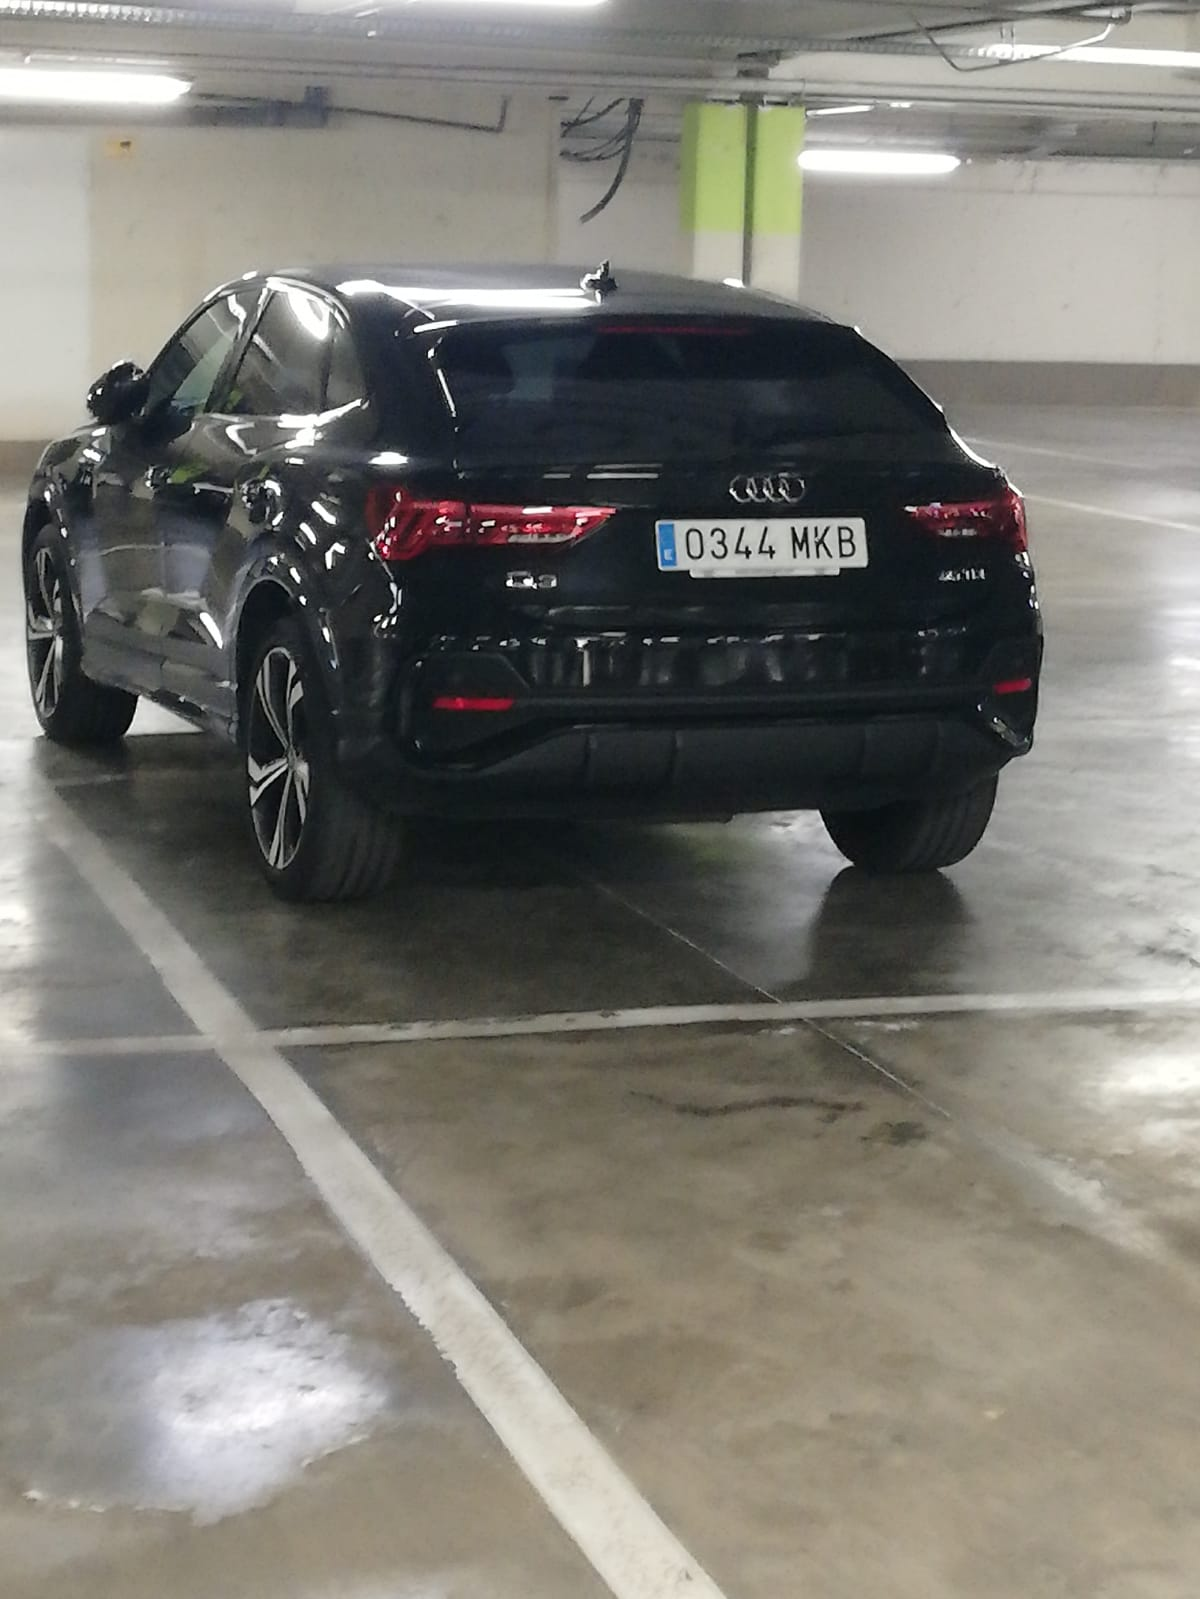Car: (23, 258, 1039, 890)
Plate: (655, 521, 867, 569)
